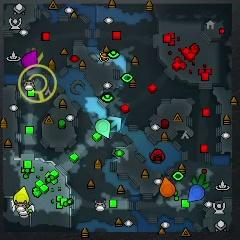p1: (188, 185, 204, 202)
p2: (95, 119, 110, 138)
p3: (22, 51, 37, 69)
p4: (14, 186, 30, 203)
p5: (159, 177, 175, 197)
x2: (31, 47, 44, 63)
x3: (107, 115, 122, 132)
x4: (192, 173, 209, 188)
